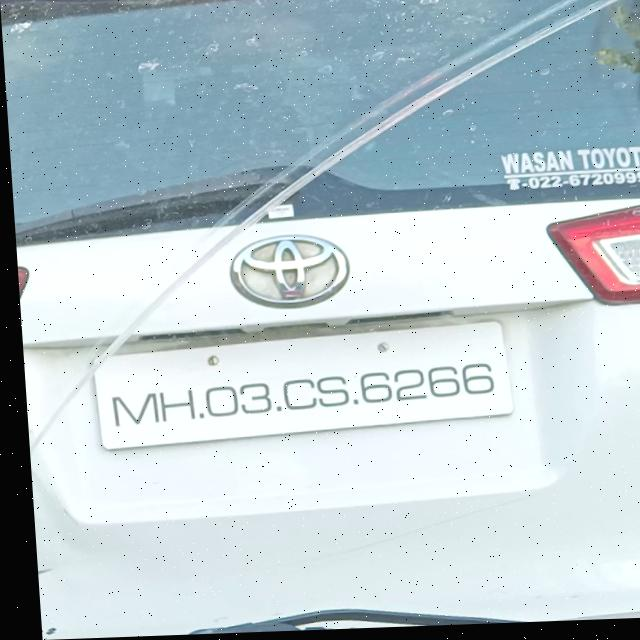plate: (80, 321, 520, 462)
